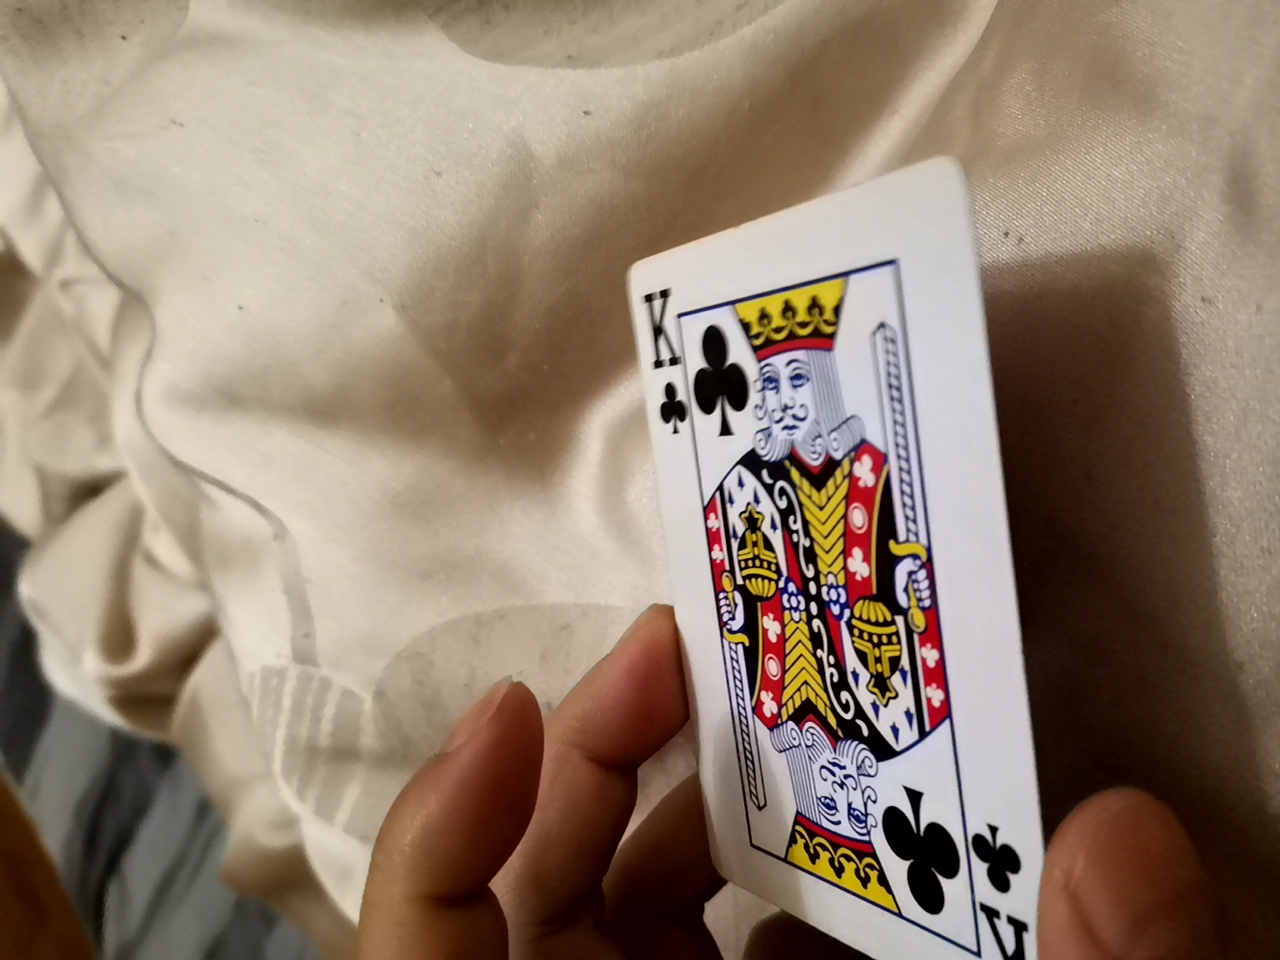mh k: (552, 176, 1055, 959)
